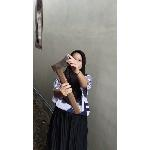Kapak: (50, 54, 84, 115)
